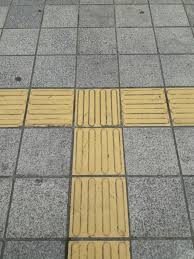guide_blocks: (71, 128, 129, 259), (1, 88, 194, 125)
